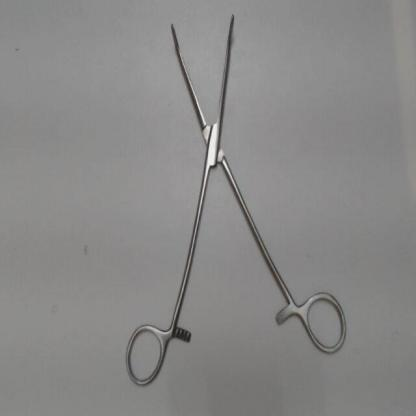Lahey Forceps: (120, 4, 353, 398)
